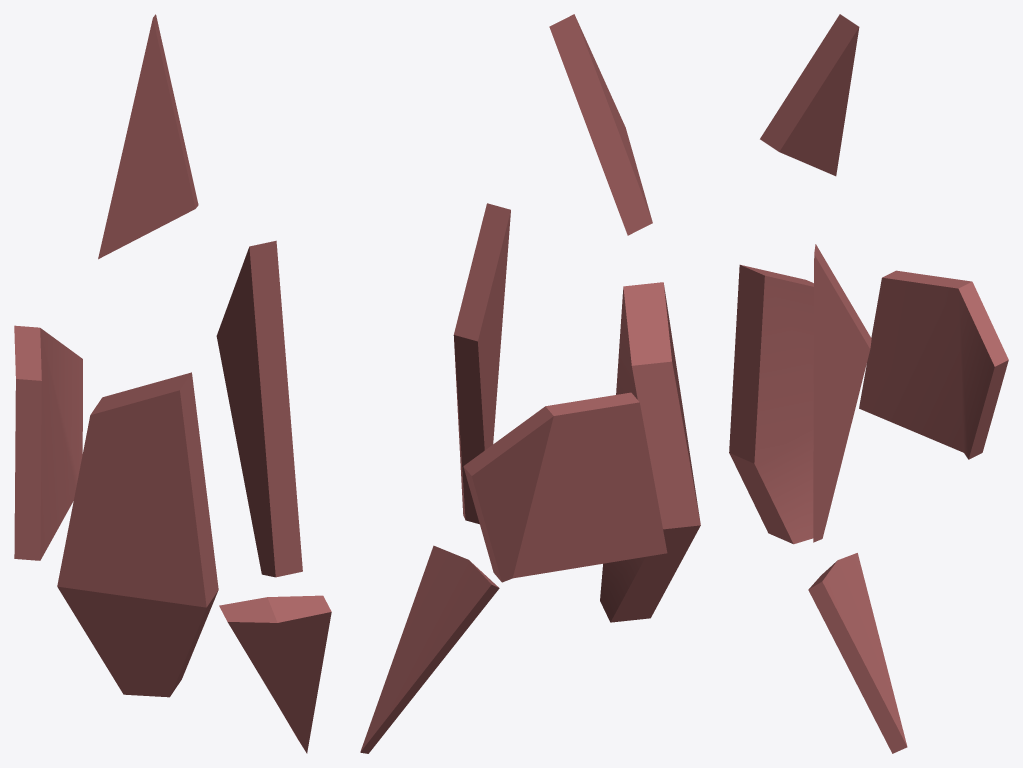
File: fragmentos.fbx
3 renders of one model, left to right at view 1: azimuth 30°, elevation 25°; view 2: azimuth 150°, elevation 25°; view 3: azimuth 270°, elevation 25°, orthographic. The views are drawn at different scales.
Visible parts, largest first — view 1: polySurface5, polySurface4, polySurface3, polySurface1, polySurface2; view 2: polySurface3, polySurface5, polySurface4, polySurface2, polySurface1; view 3: polySurface3, polySurface5, polySurface4, polySurface1, polySurface2.
Boxes of the visible parts, left/top/right/bottom form: polySurface5: left=57, top=372, right=218, bottom=697; polySurface4: left=216, top=240, right=302, bottom=577; polySurface3: left=14, top=325, right=82, bottom=560; polySurface1: left=98, top=14, right=198, bottom=259; polySurface2: left=219, top=595, right=331, bottom=753; polySurface3: left=463, top=392, right=667, bottom=582; polySurface5: left=600, top=282, right=700, bottom=622; polySurface4: left=453, top=203, right=510, bottom=524; polySurface2: left=360, top=545, right=499, bottom=753; polySurface1: left=549, top=14, right=652, bottom=235; polySurface3: left=859, top=270, right=1008, bottom=459; polySurface5: left=729, top=264, right=813, bottom=544; polySurface4: left=813, top=244, right=871, bottom=542; polySurface1: left=760, top=14, right=859, bottom=176; polySurface2: left=808, top=553, right=907, bottom=753.
Bounding box in the file's own units: 1.64 × 4.15 × 1.58.
